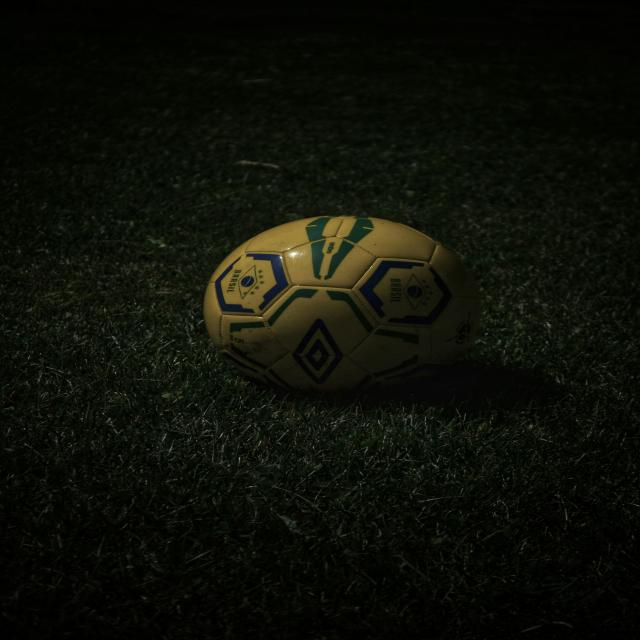Ball: (204, 216, 478, 392)
